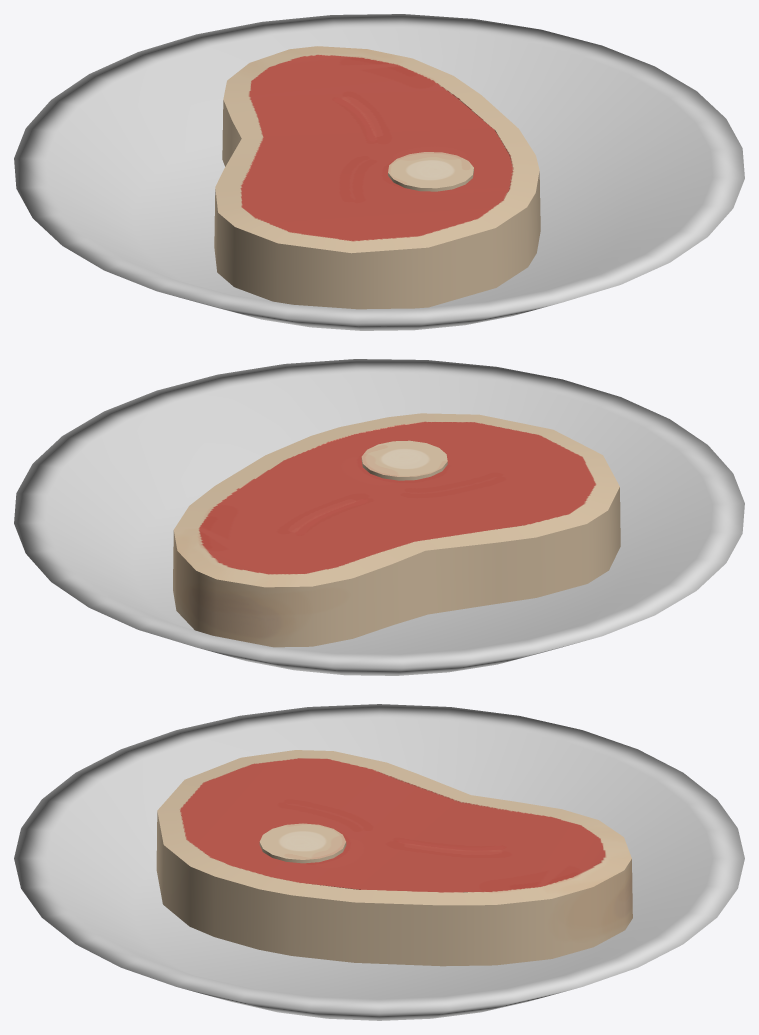
File: beefplate.fbx
The picture shows the model from 3 angles, top to bottom: view 1: azimuth 30°, elevation 25°; view 2: azimuth 150°, elevation 25°; view 3: azimuth 270°, elevation 25°; orthographic projection.
Parts seen in each view (by area): view 1: beef-low; view 2: beef-low; view 3: beef-low.
Boxes of the visible parts, box(x1,y1,x2,y2) form: beef-low: box(14, 14, 744, 330); beef-low: box(14, 359, 744, 675); beef-low: box(14, 704, 744, 1020).
Bounding box in the file's own units: 325 × 325 × 35.92.
Materials: 2 (1 with a texture image).
